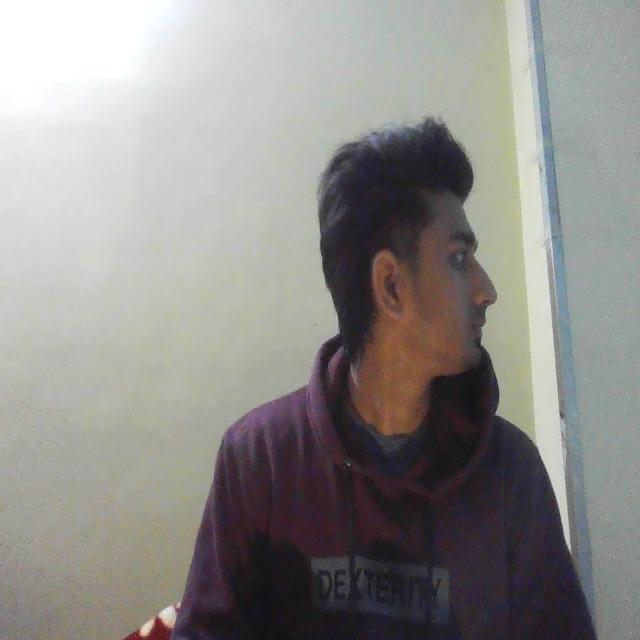real: (358, 131, 511, 420)
